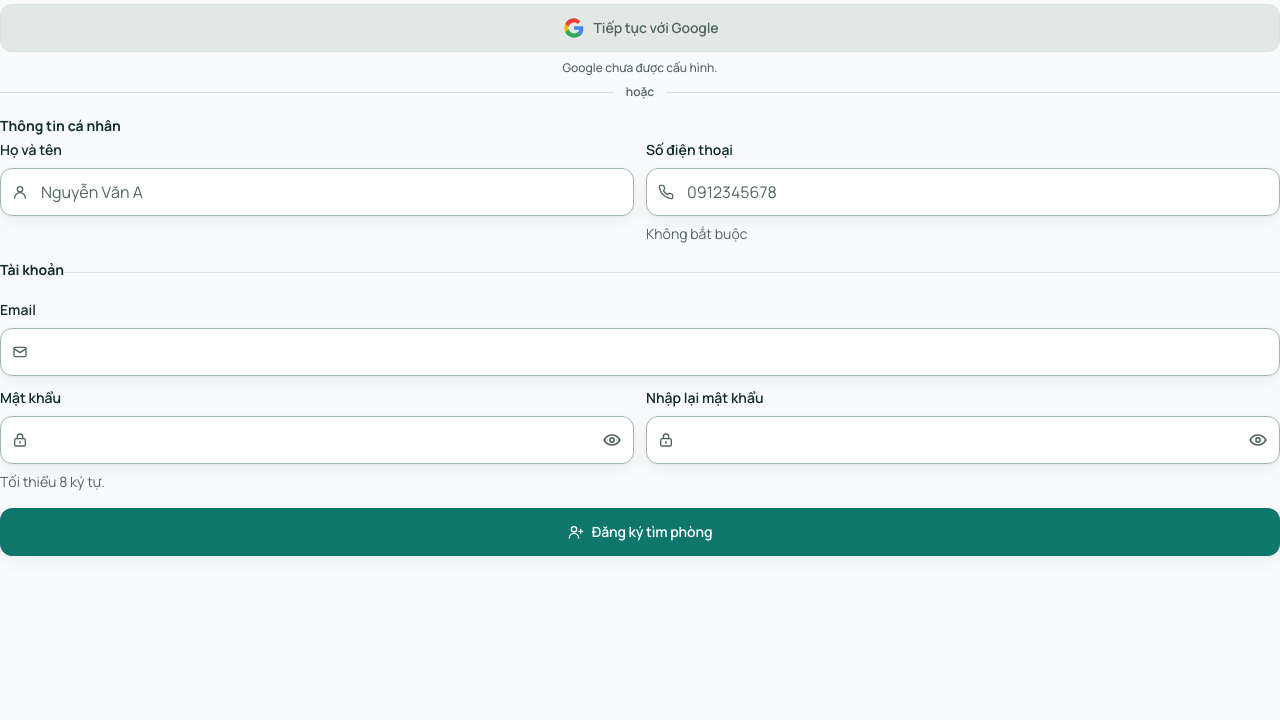
Scenario: RegistrationForm › renders a safe rate limit error without automatically replaying registration
Type "  Nguyễn Văn An  " into the field named "Họ và tên (bắt buộc)".
click(317, 192); type("  Nguyễn Văn An  ")  # box [0, 168, 634, 216]
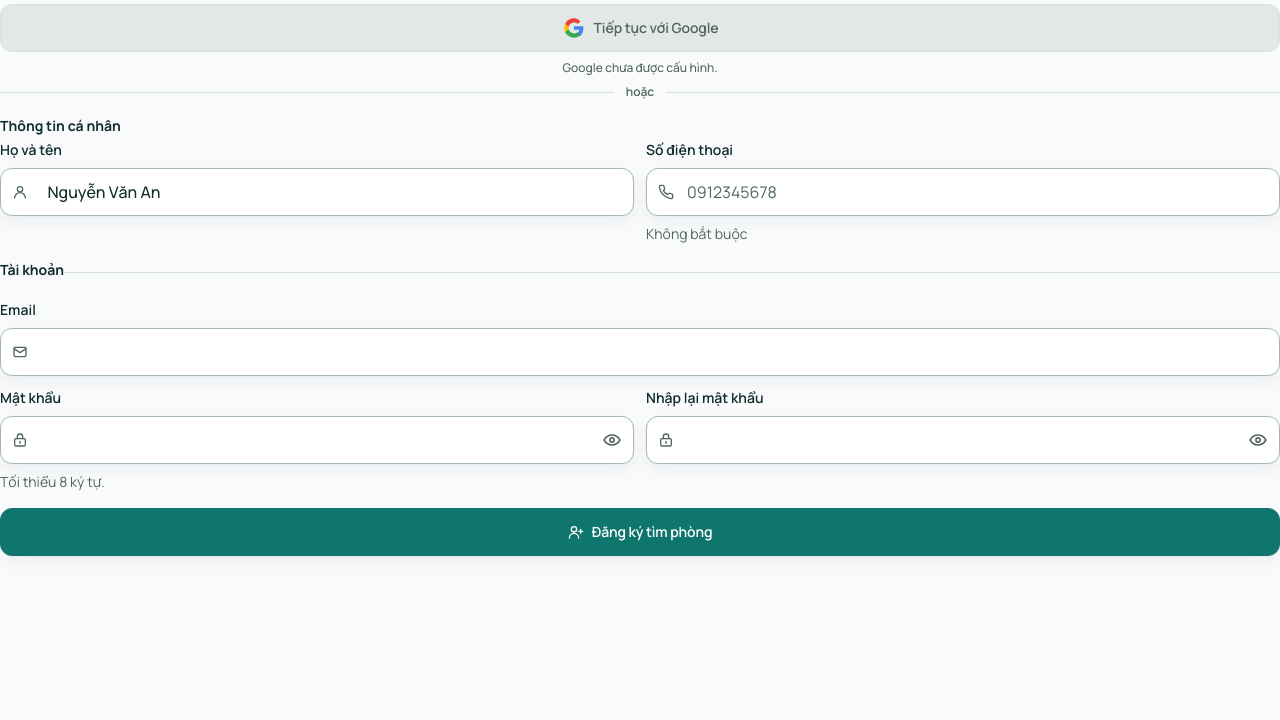
Type "tenant@example.com" into the field named "Email (bắt buộc)".
click(640, 352); type("tenant@example.com")  # box [0, 328, 1279, 376]
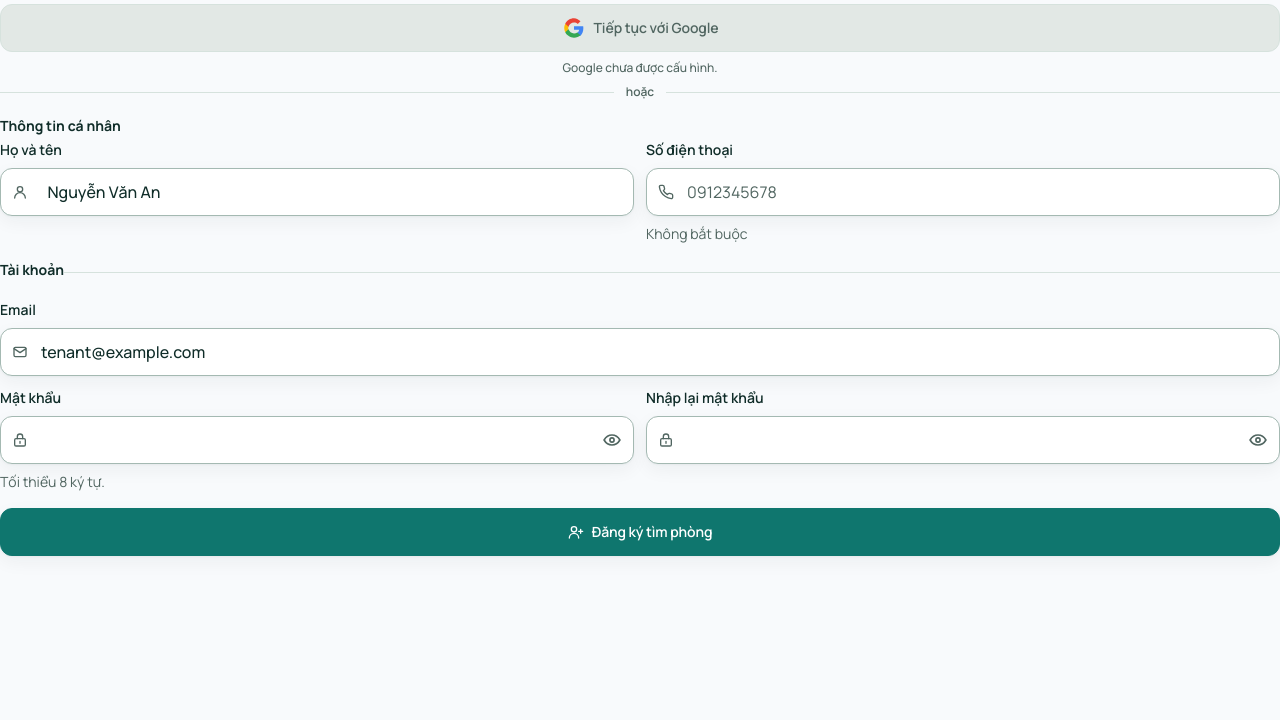
Type "password" into the password field named "Mật khẩu (bắt buộc)".
click(317, 440); type("password")  # box [0, 416, 634, 464]
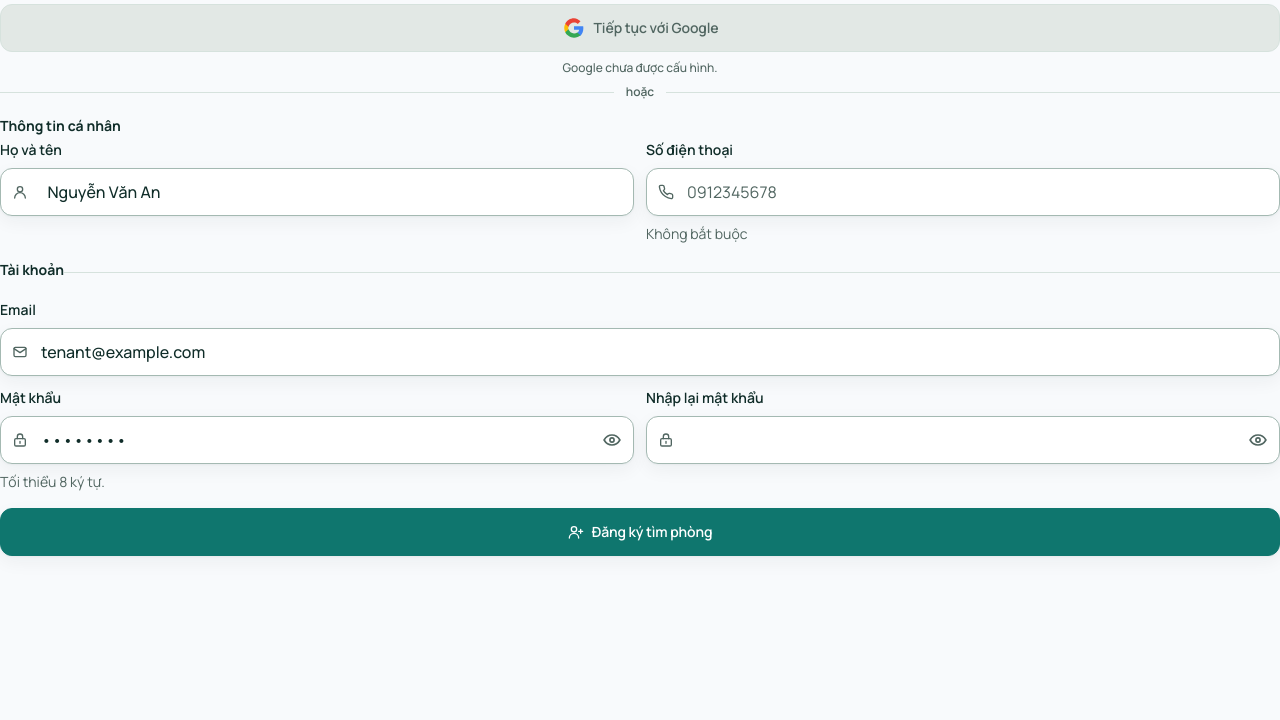
Type "password" into the password field named "Nhập lại mật khẩu (bắt buộc)".
click(963, 440); type("password")  # box [646, 416, 1279, 464]
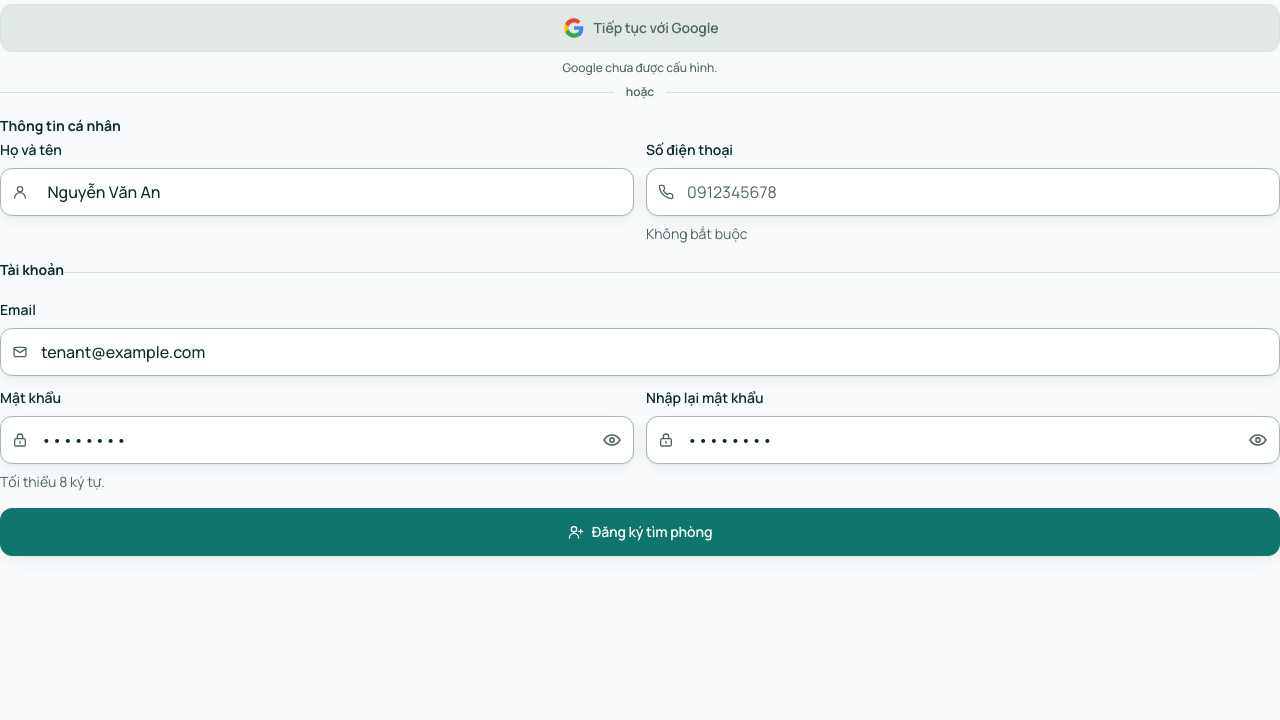
Click the button "Đăng ký tìm phòng".
click(640, 532)  # box [0, 508, 1279, 556]
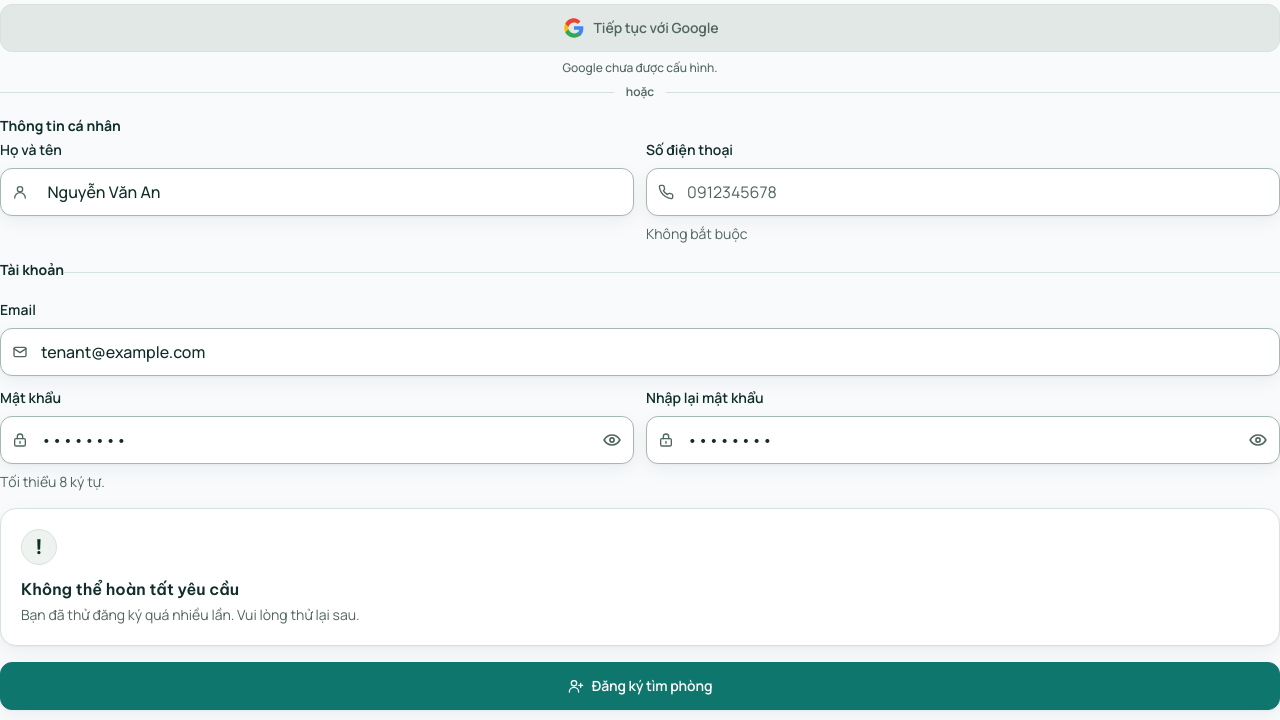
Now the message shows "thử đăng ký quá nhiều lần", box [21, 605, 360, 624]
